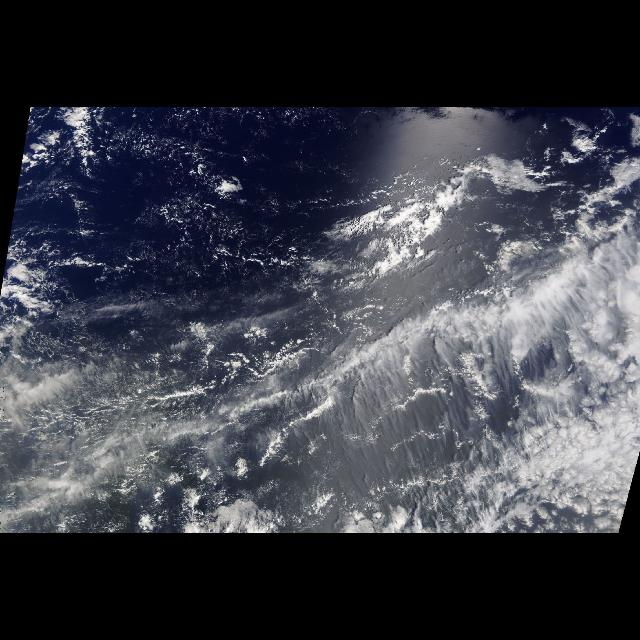Sugar: (13, 116, 380, 337)
